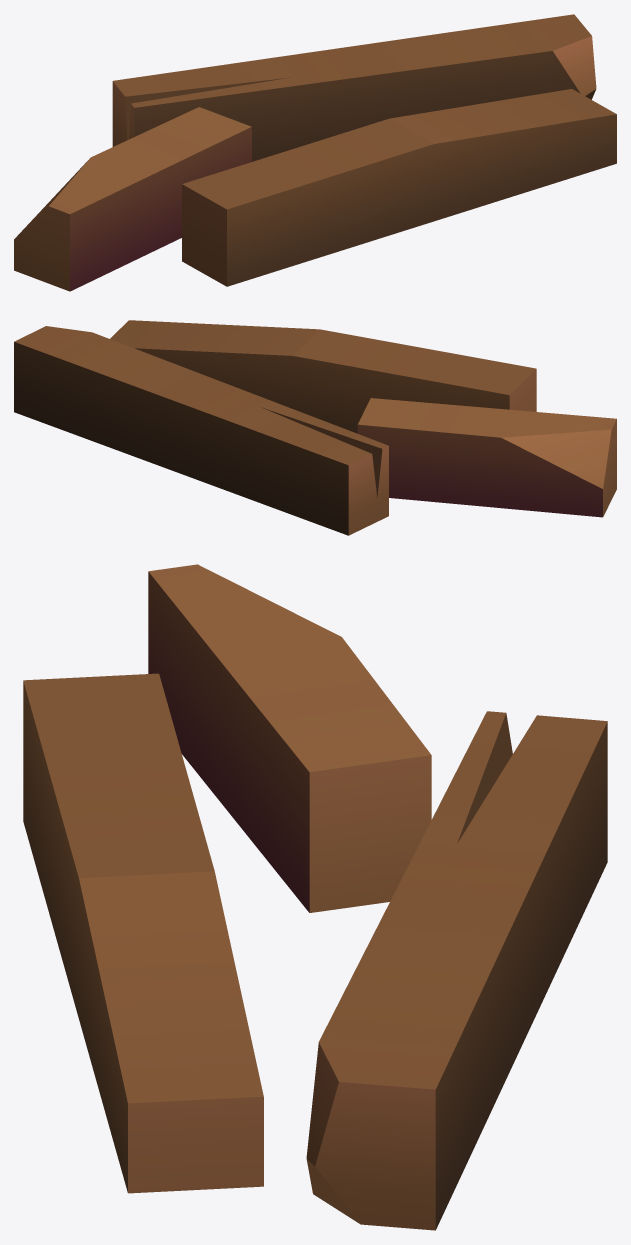
Rendered from Wood_Stack_1D.fbx.
3 renders of one model, top to bottom at view 1: azimuth 30°, elevation 25°; view 2: azimuth 150°, elevation 25°; view 3: azimuth 270°, elevation 25°, orthographic. The views are drawn at different scales.
Visible parts, largest first — view 1: Wood_Stack_1D; view 2: Wood_Stack_1D; view 3: Wood_Stack_1D.
Part boxes in pixels (x1=…): Wood_Stack_1D: x1=14, y1=14, x2=616, y2=291; Wood_Stack_1D: x1=14, y1=320, x2=616, y2=535; Wood_Stack_1D: x1=23, y1=564, x2=607, y2=1230.
Size of the model in its own units: 204 by 25 by 93.99.
